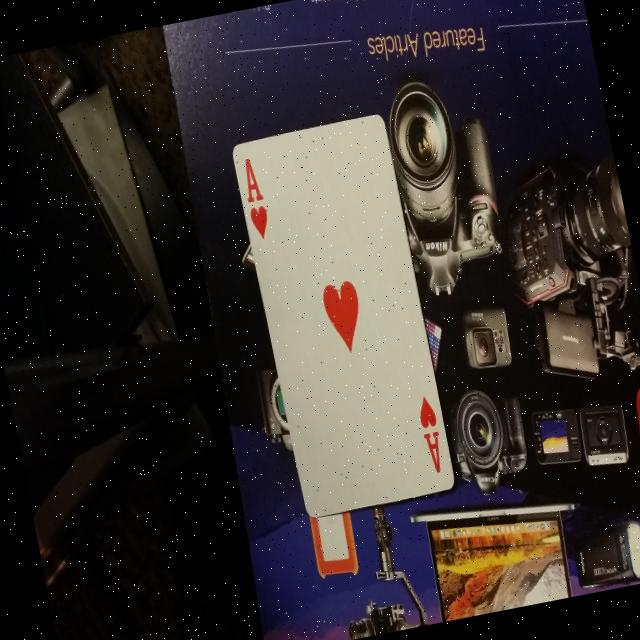Ah: (235, 146, 282, 250), (404, 384, 452, 482)
